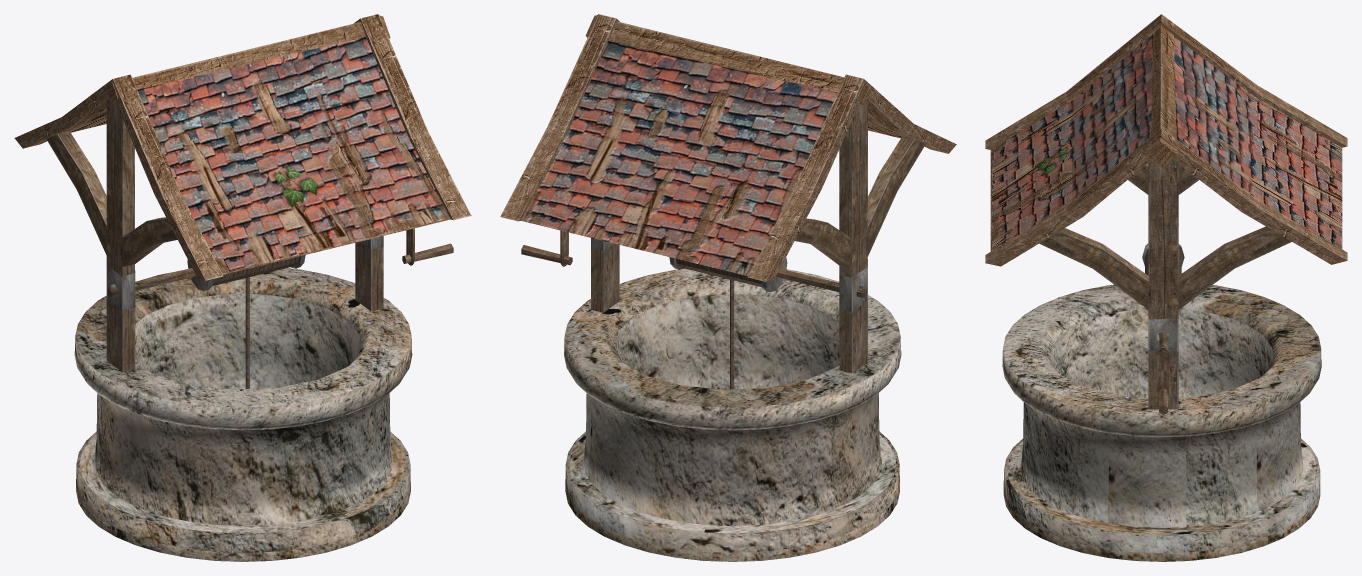
Rendered from fantana.fbx.
3 renders of one model, left to right at view 1: azimuth 30°, elevation 25°; view 2: azimuth 150°, elevation 25°; view 3: azimuth 270°, elevation 25°, orthographic. The views are drawn at different scales.
Parts seen in each view (by area): view 1: Pbeton, Pacoperis, PLlemn; view 2: Pbeton, Pacoperis, PLlemn; view 3: Pbeton, Pacoperis, PLlemn.
Part boxes in pixels (x1,y1,x2,y2): Pbeton: (74, 268, 412, 561); Pacoperis: (14, 14, 471, 280); PLlemn: (46, 98, 453, 388); Pbeton: (564, 268, 901, 561); Pacoperis: (500, 14, 956, 281); PLlemn: (521, 99, 925, 389); Pbeton: (1002, 284, 1321, 561); Pacoperis: (985, 14, 1347, 266); PLlemn: (1039, 160, 1291, 414).
Size of the model in its own units: 1451 by 1738 by 1356.
Materials: 3 (3 with a texture image).
